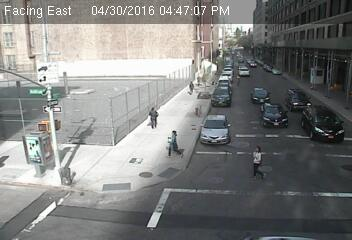neg: (203, 113, 225, 142), (155, 184, 175, 211), (254, 86, 271, 109), (83, 46, 100, 69), (310, 66, 325, 86), (266, 29, 281, 49), (328, 102, 342, 122), (217, 85, 231, 104), (81, 122, 94, 140), (142, 5, 155, 23), (328, 76, 340, 93), (270, 61, 282, 77), (136, 72, 147, 88), (224, 64, 234, 78), (242, 65, 250, 76)
pos: (247, 144, 274, 180), (163, 127, 184, 156), (144, 105, 163, 129), (186, 79, 199, 96)
